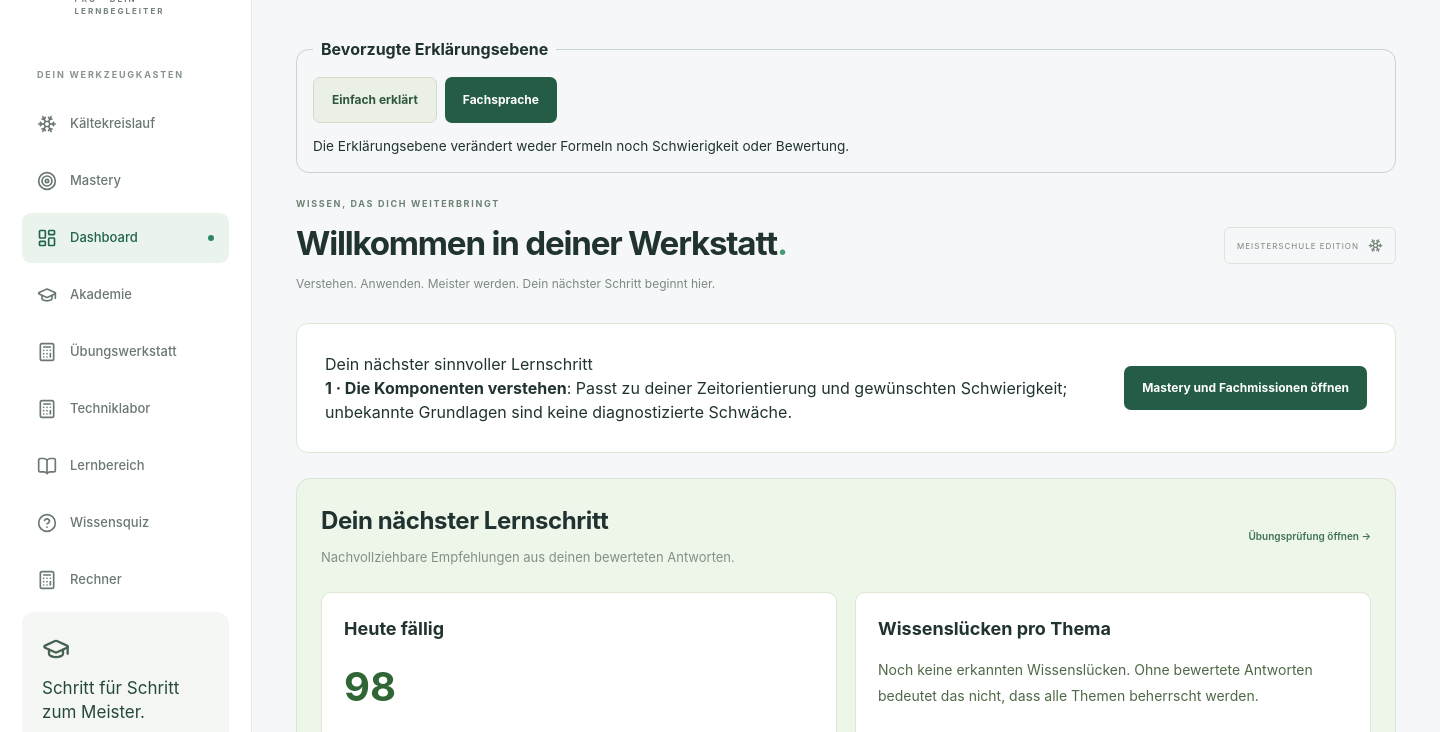
Test: speichert abgebrochene Quizrunden nicht als Versuch
Click the button "Wissensquiz": {"x": 126, "y": 522} [22,498,229,548]
(page scrolled)
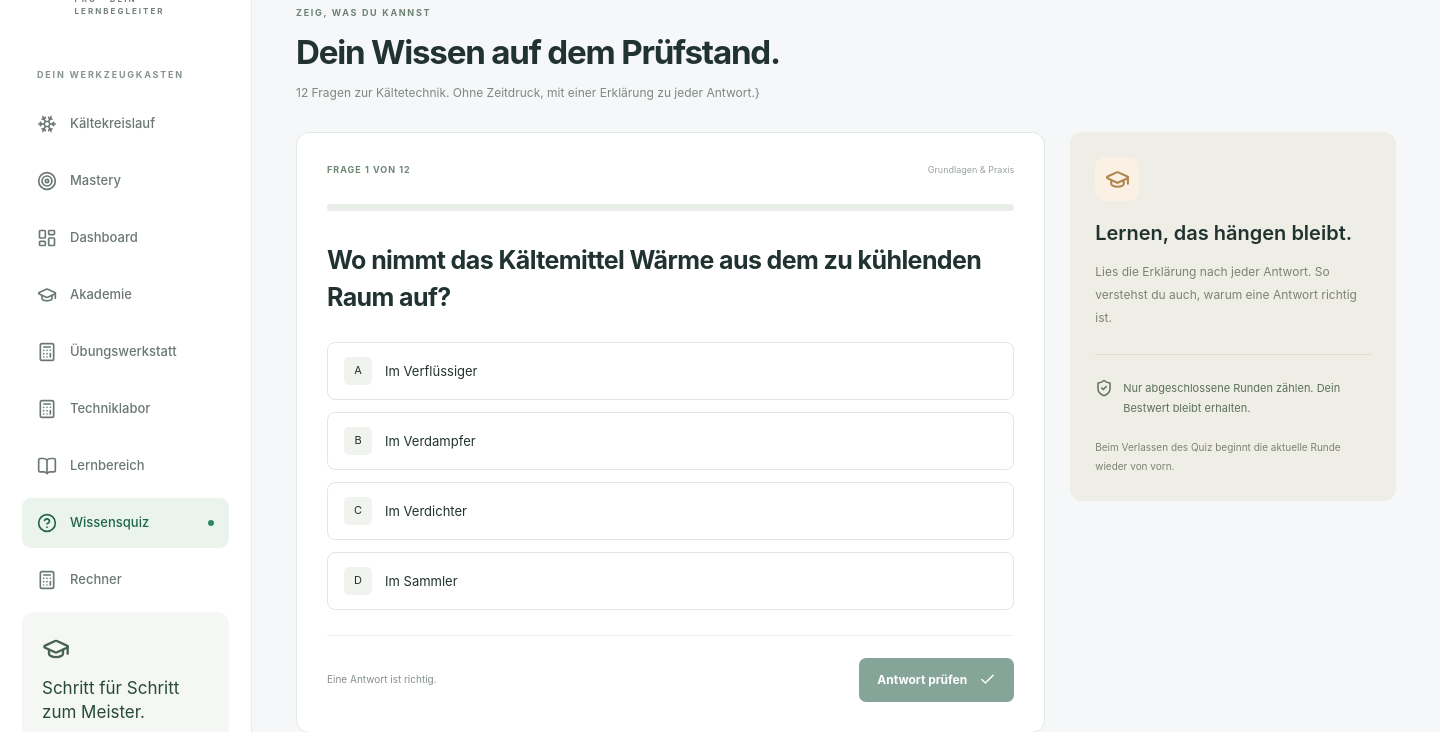
Click the radio button labelled "A Im Verflüssiger": {"x": 431, "y": 371} [327,342,1014,400]
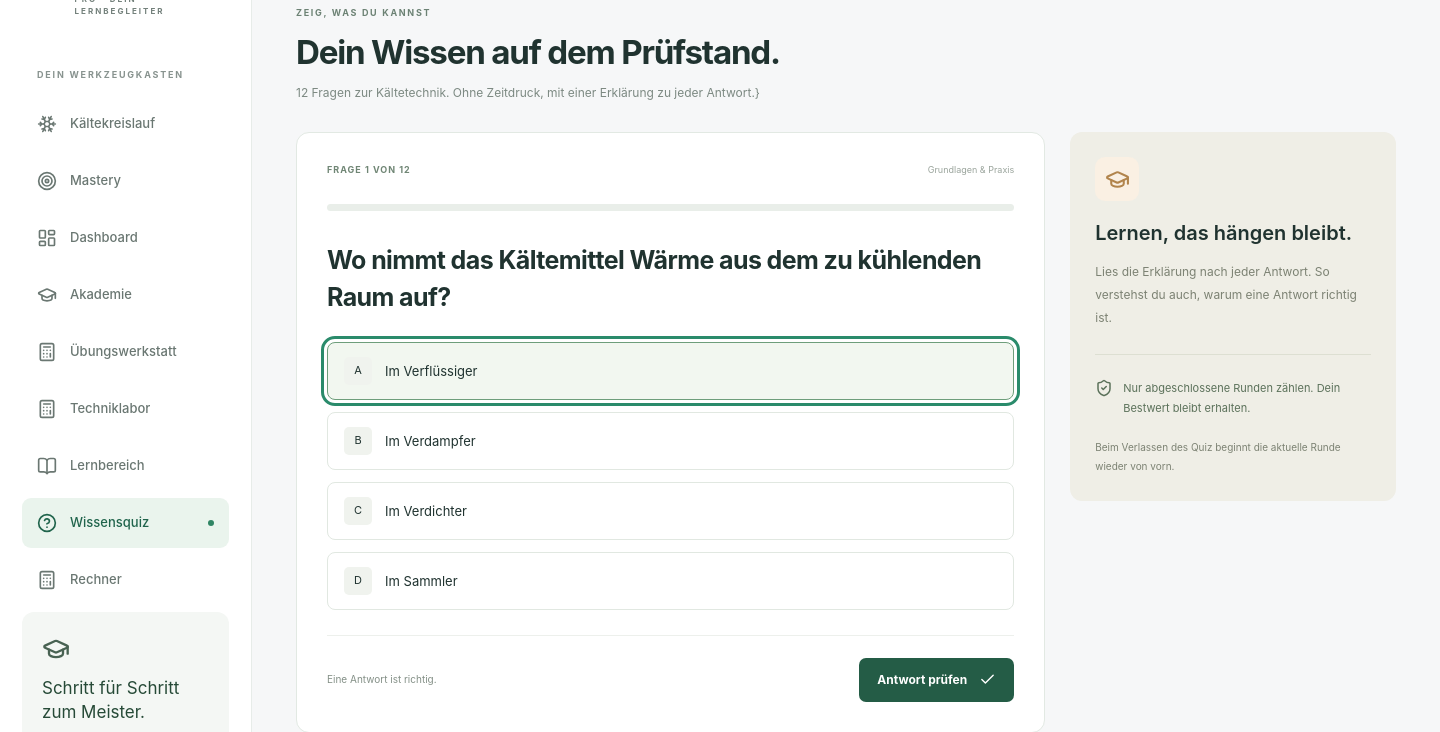
Click the button "Antwort prüfen": {"x": 937, "y": 680} [859,658,1014,702]
(page scrolled)
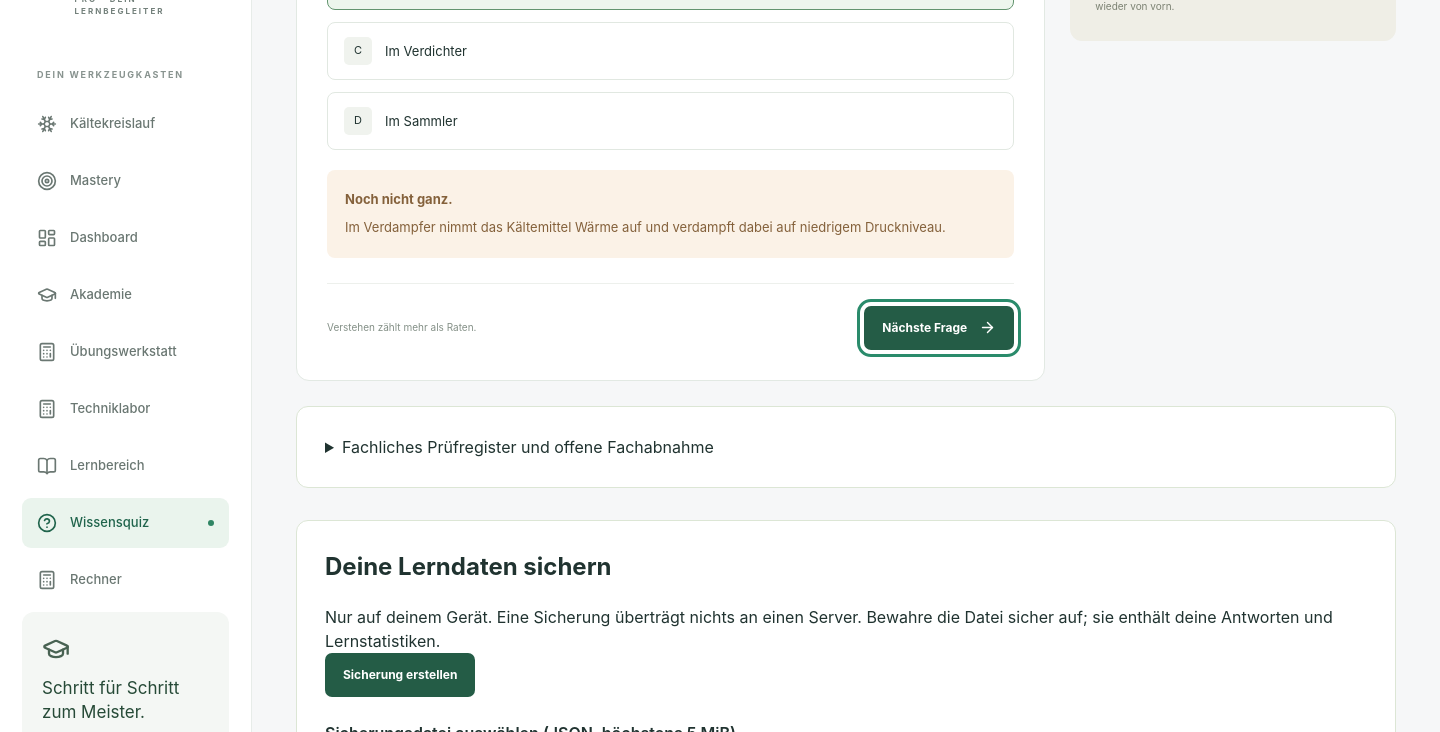
Click the button "Nächste Frage": {"x": 939, "y": 328} [864,306,1014,350]
(page scrolled)
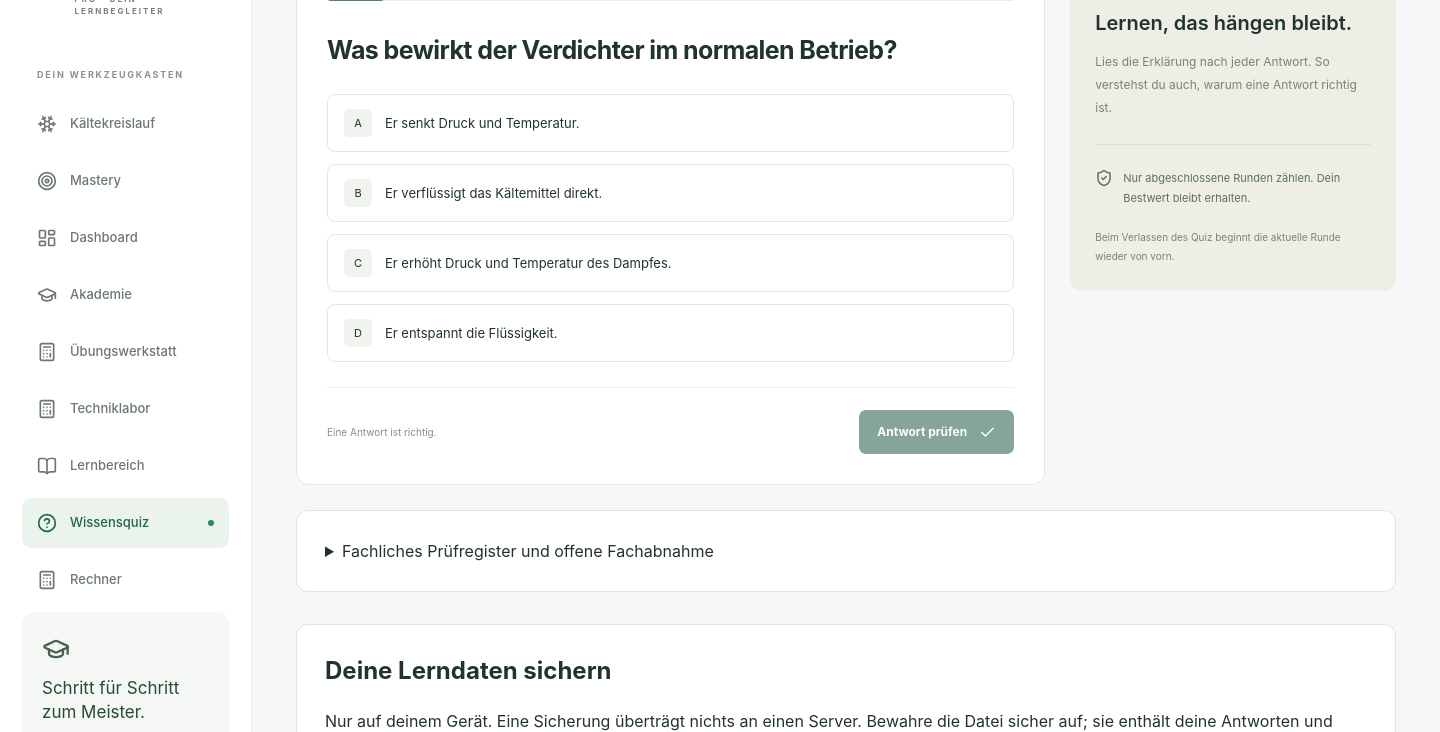
Click the button "Dashboard": {"x": 126, "y": 238} [22,212,229,262]
(page scrolled)
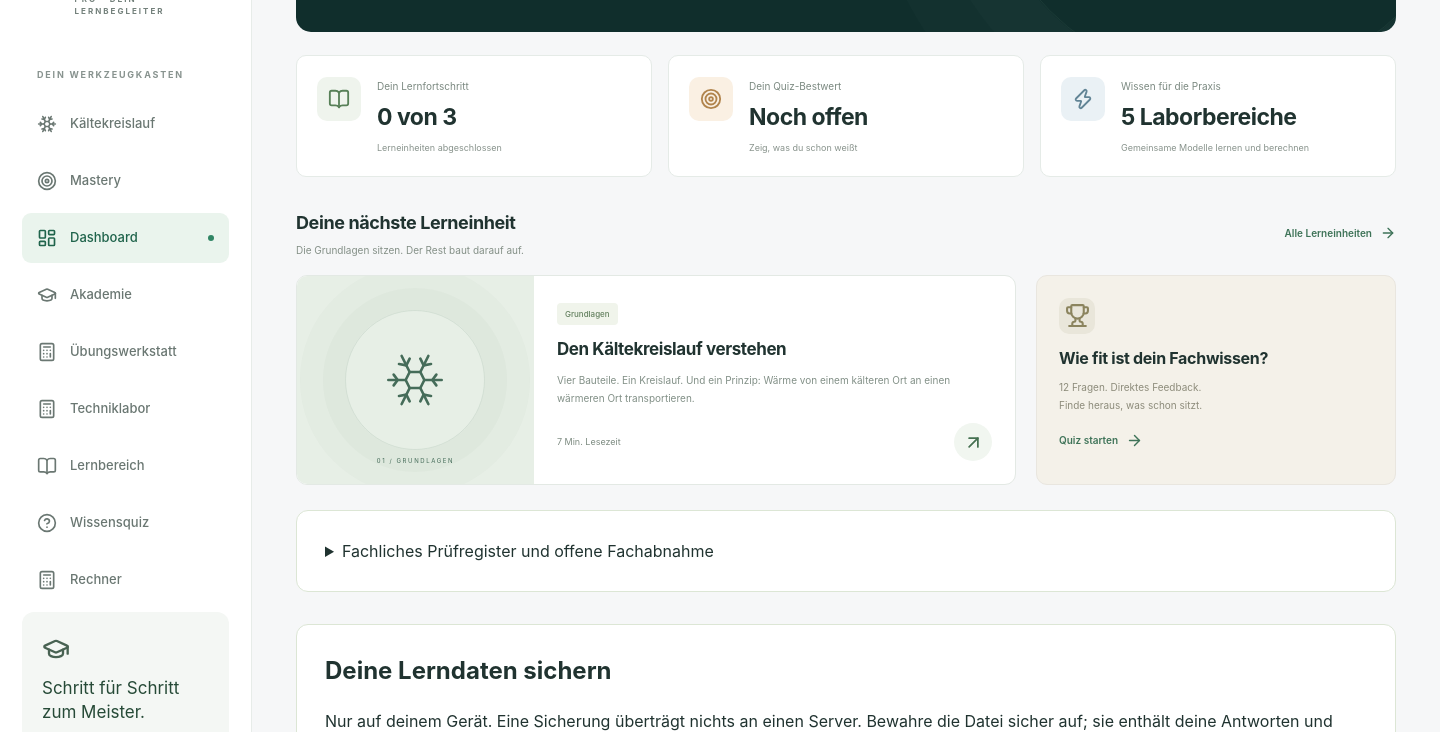
Click the button "Wissensquiz": {"x": 126, "y": 522} [22,498,229,548]
(page scrolled)
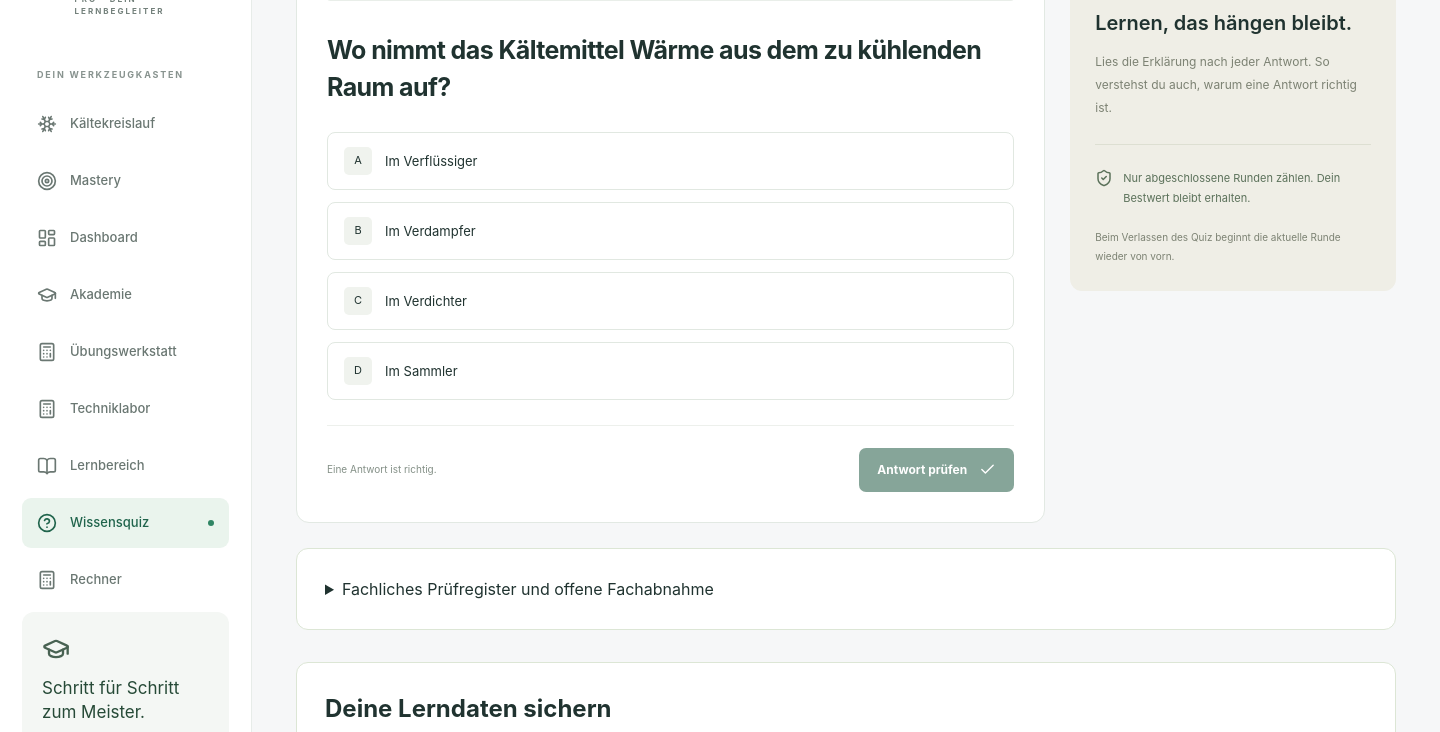
Now the button "Antwort prüfen" is disabled, box [859,448,1014,492]
